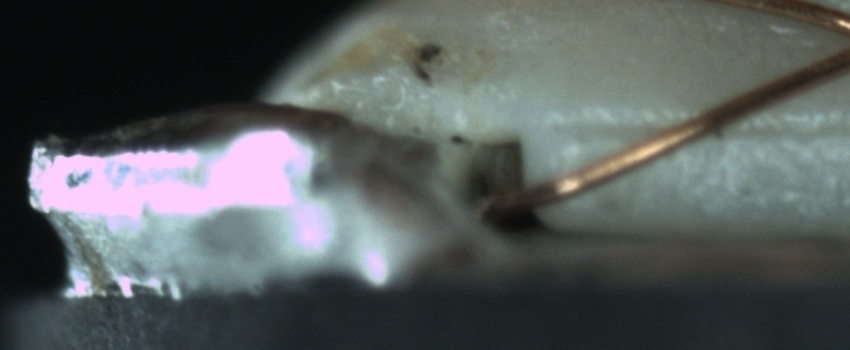CL: (832, 17, 850, 68)
DL: (562, 97, 849, 160)
